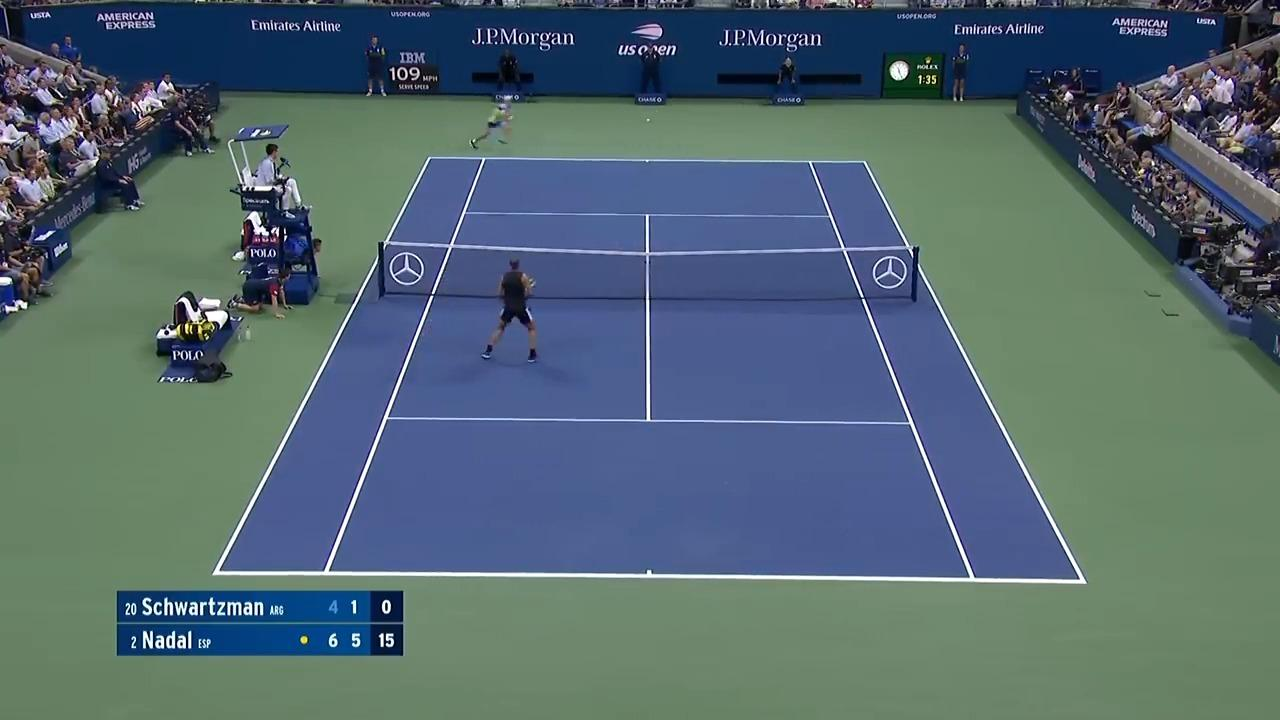tennis ball: (641, 112, 654, 123)
